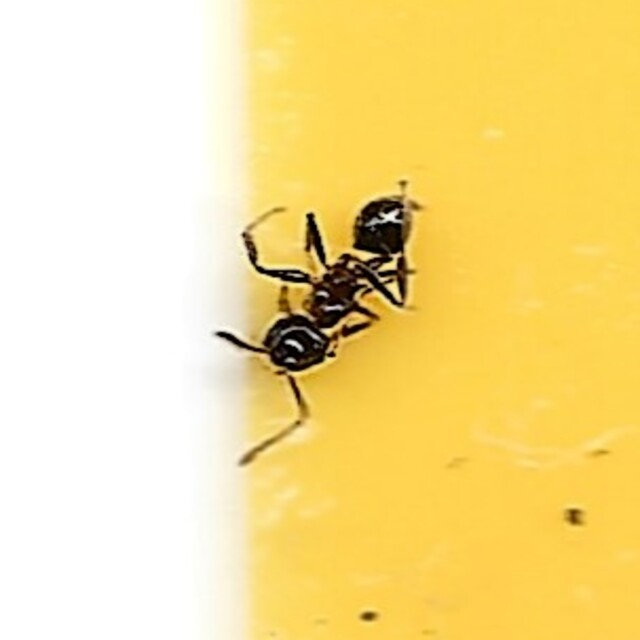Hymenoptera: (211, 181, 429, 459)
